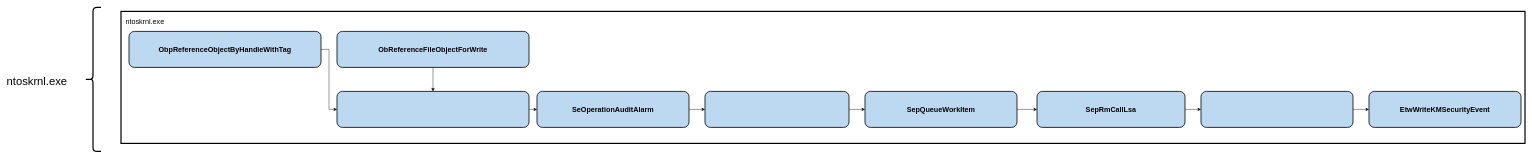
This 1532x159 diagram has some shape labels left out. The shapes that lost their labels are listed below. From the top down, each one's box as (x1, y1, x2, y2) in pixels, then its label:
(336, 91, 529, 128): ObpAuditObjectAccess
(704, 91, 849, 128): SepAdtLogAuditRecord
(1200, 91, 1353, 128): AdtpWriteToEtw
